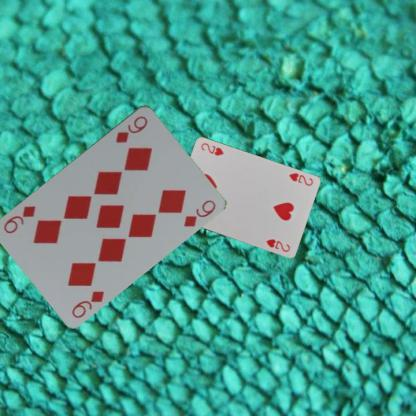2h: (286, 171, 314, 188)
9d: (68, 288, 106, 319), (113, 113, 149, 144)
